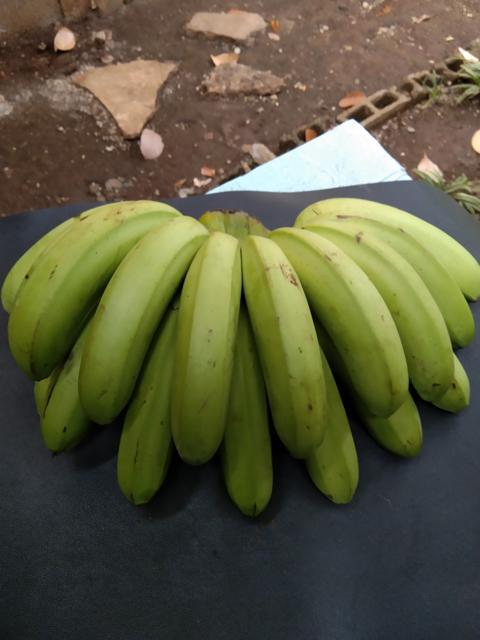freshunripe: (73, 208, 205, 427), (273, 217, 412, 419), (338, 225, 460, 401), (161, 229, 246, 456), (112, 386, 181, 506), (218, 388, 279, 517)
unripe: (0, 204, 169, 374), (239, 229, 333, 457)
